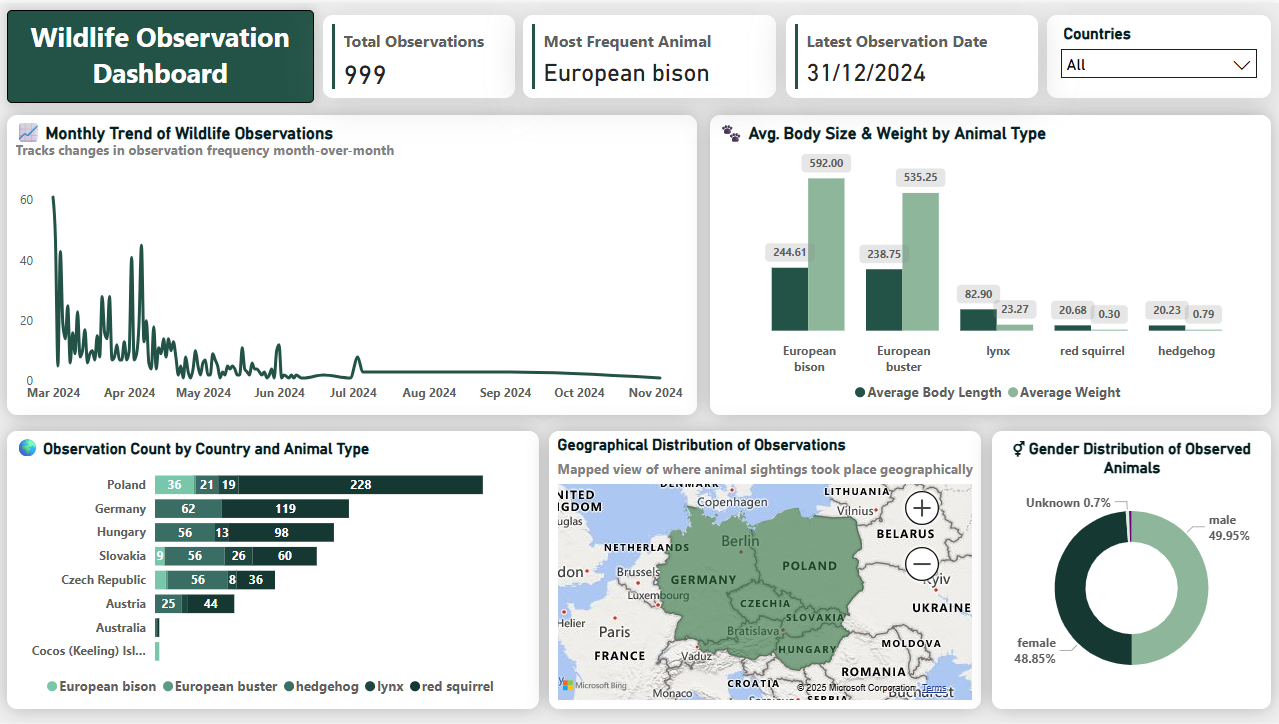

The page's visual inventory and layout, read from the dashboard file:
{"tool":"powerbi","page":{"name":"Page 1","canvas":[1280,720],"ordinal":0},"visuals":[{"type":"lineChart","title":"📈 Monthly Trend of Wildlife Observations","fields":{"Category":["animal_data_dirty1 (1).Observation date"],"Y":["animal_data_dirty1 (1).Total Observations"]},"box":[8,112,690,300],"z":0},{"type":"textbox","box":[8,7,307,93],"z":1000},{"type":"barChart","title":"🌍 Observation Count by Country and Animal Type","fields":{"Y":["animal_data_dirty1 (1).Total Observations"],"Category":["animal_data_dirty1 (1).Country"],"Series":["animal_data_dirty1 (1).Animal type"]},"box":[8,428,532,278],"z":2000},{"type":"cardVisual","fields":{"Data":["animal_data_dirty1 (1).Total rows"]},"box":[324,12,192,83],"z":3000},{"type":"slicer","fields":{"Values":["animal_data_dirty1 (1).Country"]},"box":[1048,12,224,83],"z":4000},{"type":"clusteredColumnChart","title":"🐾 Avg. Body Size & Weight by Animal Type","fields":{"Category":["animal_data_dirty1 (1).Animal type"],"Y":["animal_data_dirty1 (1).Average Body Length","animal_data_dirty1 (1).Average Weight"]},"box":[711,112,561,300],"z":5000},{"type":"cardVisual","fields":{"Data":["animal_data_dirty1 (1).MostFrequentAnimal"]},"box":[524,12,253,83],"z":6000},{"type":"filledMap","title":"Geographical Distribution of Observations","fields":{"Category":["animal_data_dirty1 (1).Country"]},"box":[550,428,432,278],"z":7000},{"type":"cardVisual","fields":{"Data":["animal_data_dirty1 (1).LatestDate"]},"box":[787,12,252,83],"z":8000},{"type":"donutChart","title":"\t⚥ Gender Distribution of Observed Animals","fields":{"Category":["animal_data_dirty1 (1).Gender"],"Y":["animal_data_dirty1 (1).Total Animal Type"]},"box":[993,428,279,278],"z":9000}]}

Visuals, with their boxes in screenshot pixels (x1, y1, x2, y2), scaled from the page's 1280x720 canvas onto the 1279x724 screenshot:
"📈 Monthly Trend of Wildlife Observations" lineChart: select_region(8, 113, 697, 414)
textbox: select_region(8, 7, 315, 101)
"🌍 Observation Count by Country and Animal Type" barChart: select_region(8, 430, 540, 710)
cardVisual - animal_data_dirty1 (1).Total rows: select_region(324, 12, 516, 96)
slicer - animal_data_dirty1 (1).Country: select_region(1047, 12, 1271, 96)
"🐾 Avg. Body Size & Weight by Animal Type" clusteredColumnChart: select_region(710, 113, 1271, 414)
cardVisual - animal_data_dirty1 (1).MostFrequentAnimal: select_region(524, 12, 776, 96)
"Geographical Distribution of Observations" filledMap: select_region(550, 430, 981, 710)
cardVisual - animal_data_dirty1 (1).LatestDate: select_region(786, 12, 1038, 96)
"	⚥ Gender Distribution of Observed Animals" donutChart: select_region(992, 430, 1271, 710)
